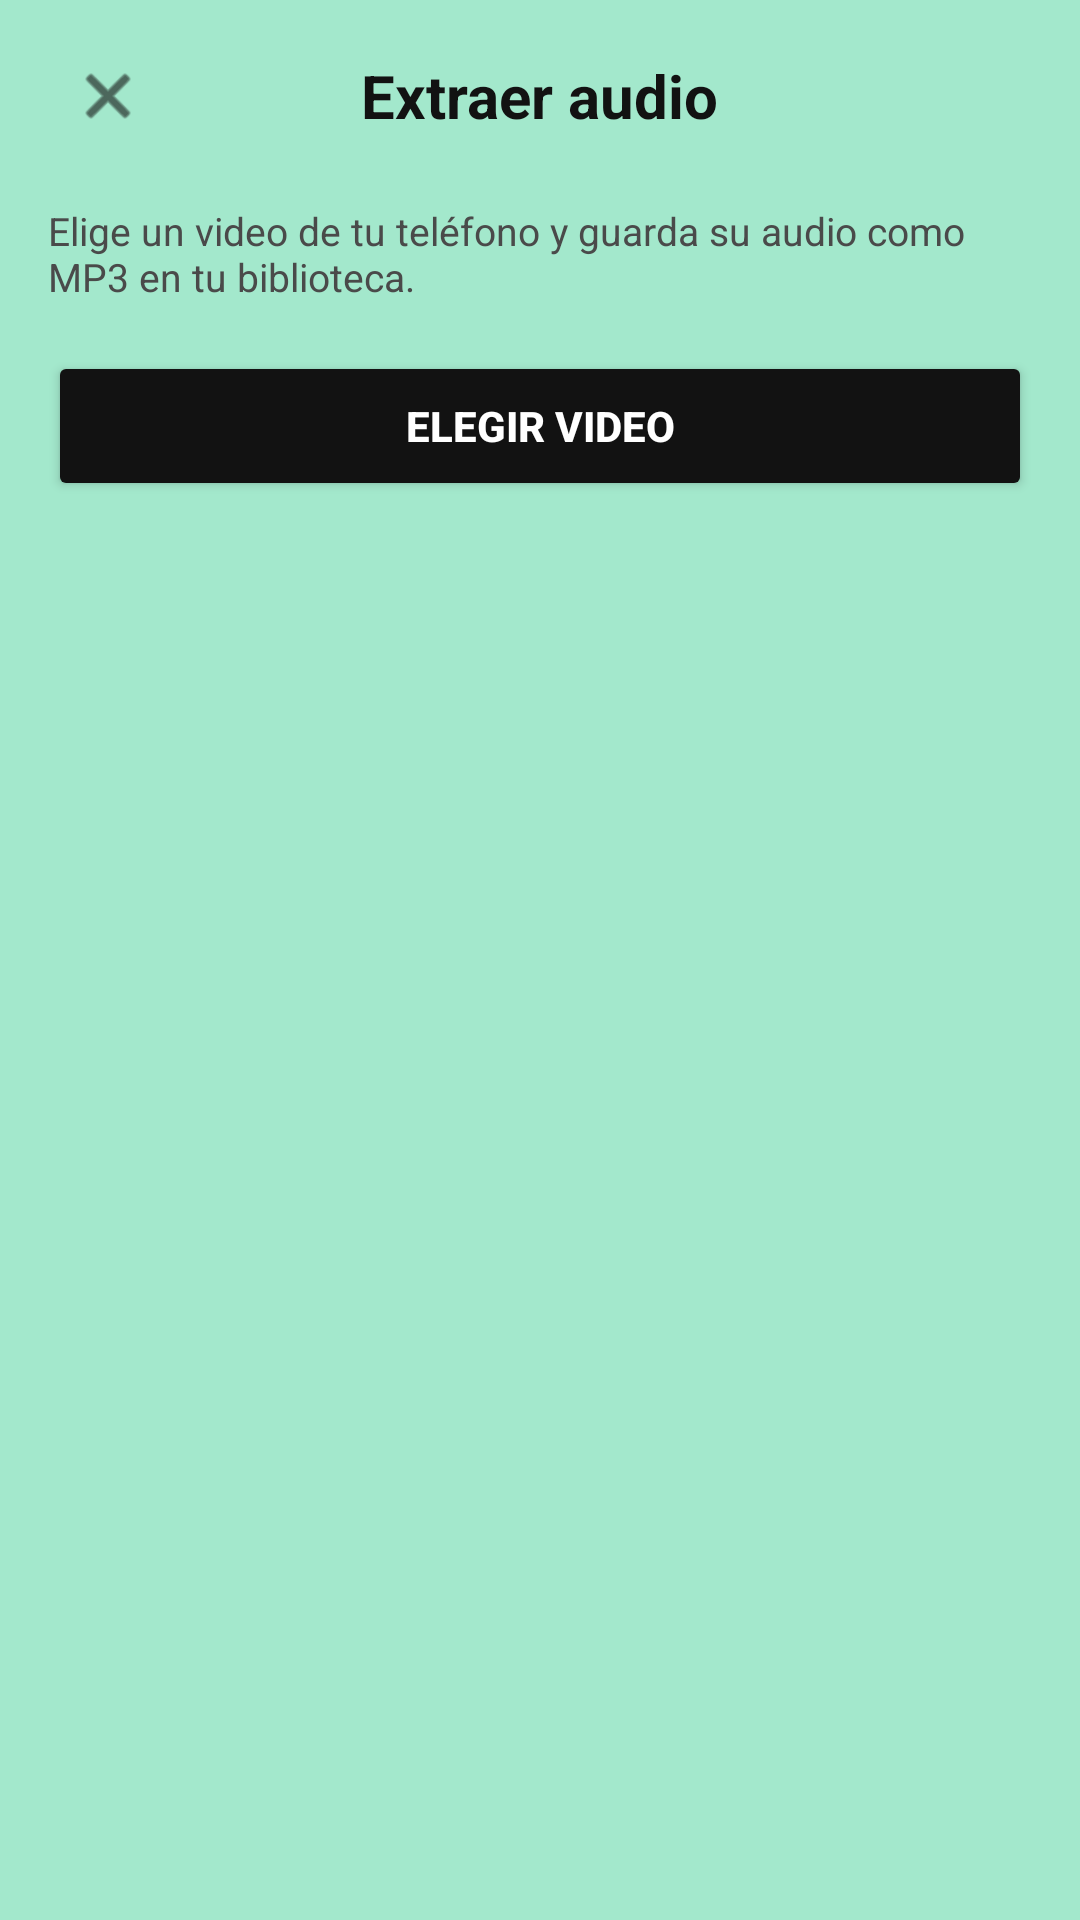

Screen size 1080×1920. Icon name, then its box in pixels as (x1, y1, x2, y2):
Volver: (85, 73, 131, 119)
